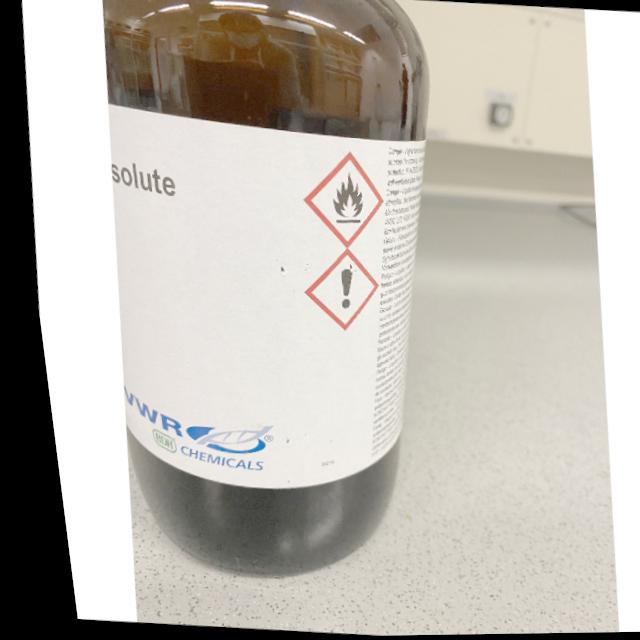flammable: (287, 148, 386, 251)
health-ozone layer hazard: (286, 245, 378, 333)
